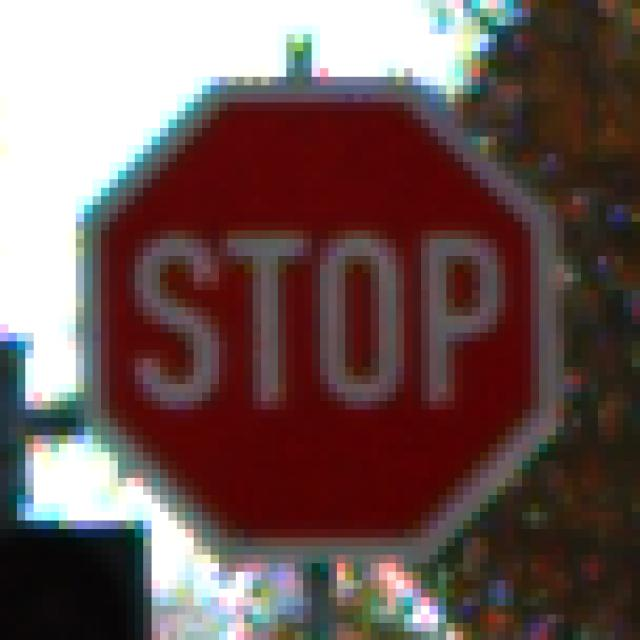STOP: (60, 61, 590, 590)
